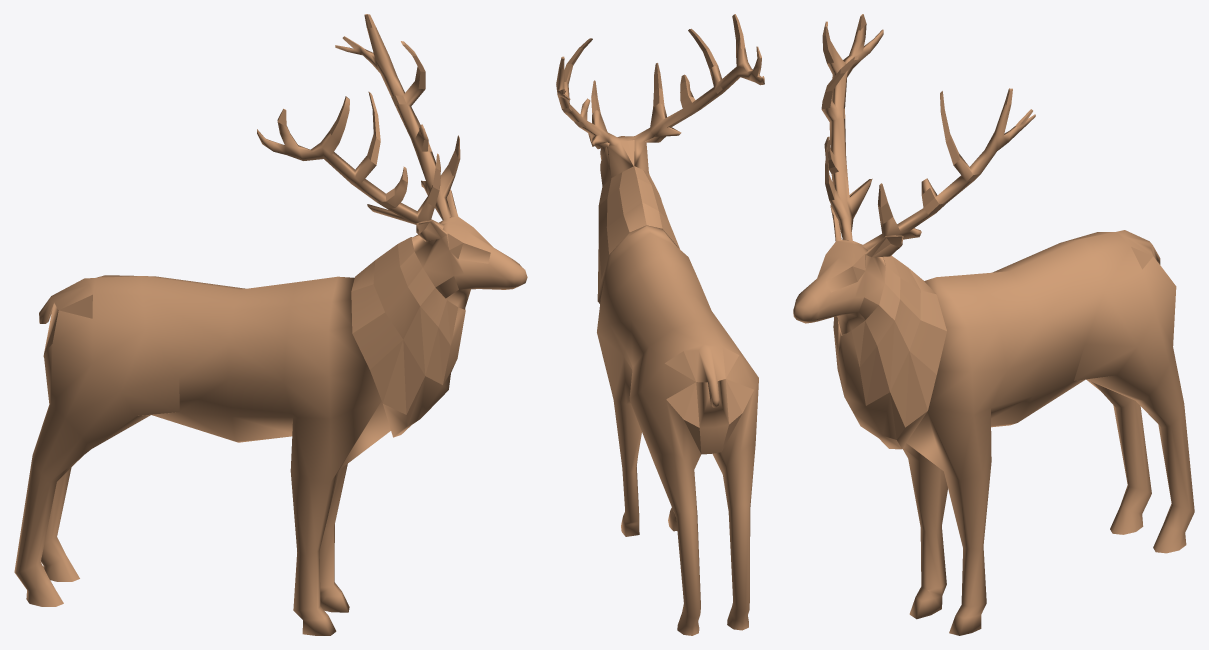
The model's file is ToyObject_054.fbx.
3 renders of one model, left to right at view 1: azimuth 30°, elevation 25°; view 2: azimuth 150°, elevation 25°; view 3: azimuth 270°, elevation 25°, orthographic. The views are drawn at different scales.
Visible parts, largest first — view 1: 1.026; view 2: 1.026; view 3: 1.026.
Boxes of the visible parts, bbox=[...] form: 1.026: bbox=[14, 14, 527, 635]; 1.026: bbox=[556, 14, 764, 635]; 1.026: bbox=[793, 14, 1194, 635].
Size of the model in its own units: 0.1649 by 0.2665 by 0.1668.
